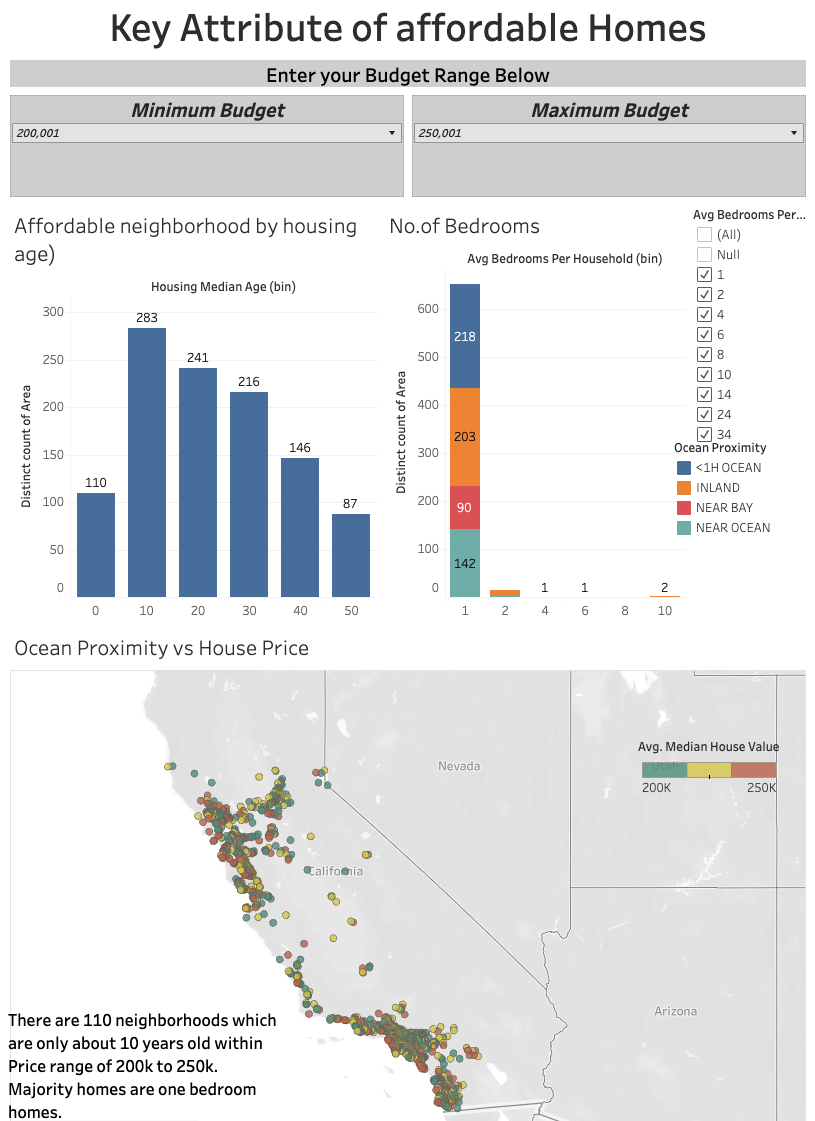

This screenshot's page, from the dashboard's own definition file:
{"tool":"tableau","page":{"name":"Key Attribute of affordable Homes","canvas":[1000,1000],"units":"permille","ordinal":2},"visuals":[{"type":"title","box":[9.8,7.1,980.5,52.2]},{"type":"text","box":[9.8,59.2,980.5,30.1]},{"type":"parameter","param":"[Parameters].[Parameter 1]","box":[9.8,89.3,490.2,97.3]},{"type":"parameter","param":"[Parameters].[Enter your Budget (copy)_5461177540087558150]","box":[500,89.3,490.2,97.3]},{"type":"worksheet","title":"Affordable neighborhood by housing age)","mark":"Automatic","rows":["Calculation_5461177539739037699"],"cols":["Housing Median Age (bin)"],"box":[9.8,186.6,457.3,373.1]},{"type":"worksheet","title":"No.of Bedrooms","mark":"Bar","rows":["Calculation_5461177539739037699"],"cols":["Avg Bedrooms Per Household (bin)"],"box":[467.1,186.6,375.6,373.1]},{"type":"filter","title":"No.of Bedrooms","param":"[federated.0e5wdql09sb56g10pghwm11j47eq].[none:Avg Bedrooms Per Household (bin):","box":[842.6,186.6,147.6,373.1]},{"type":"legend","title":"No.of Bedrooms","param":"[federated.0e5wdql09sb56g10pghwm11j47eq].[none:ocean_proximity:nk]","box":[824.4,388.7,170.7,92.5]},{"type":"worksheet","title":"Ocean Proximity vs House Price","mark":"Multipolygon","rows":["latitude"],"cols":["longitude"],"box":[9.8,559.7,980.5,433.3]},{"type":"legend","title":"Ocean Proximity vs House Price","param":"[federated.0e5wdql09sb56g10pghwm11j47eq].[avg:median_house_value:qk]","box":[780.5,646.2,174.4,79.2]},{"type":"text","box":[12.2,872.6,342.7,111.3]}]}

Visuals, with their boxes on the dashboard's canvas, which has no fixed pixel size, in thousandths of its width and height (x1, y1, x2, y2). These are canvas units, not pixel positions in the 815x1121 screenshot, which may show the page scaled, cropped or inside an application window:
title: 10,7,990,59
text: 10,59,990,89
parameter: 10,89,500,187
parameter: 500,89,990,187
"Affordable neighborhood by housing age)" worksheet: 10,187,467,560
"No.of Bedrooms" worksheet (Bar marks): 467,187,843,560
"No.of Bedrooms" filter: 843,187,990,560
"No.of Bedrooms" legend: 824,389,995,481
"Ocean Proximity vs House Price" worksheet (Multipolygon marks): 10,560,990,993
"Ocean Proximity vs House Price" legend: 780,646,955,725
text: 12,873,355,984
